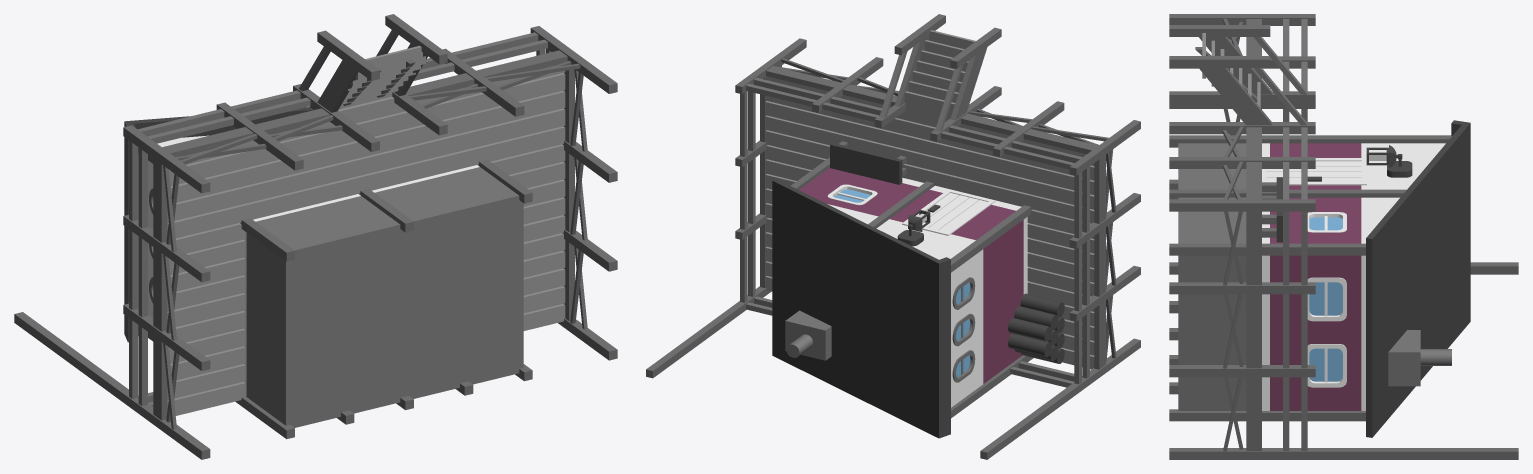
Rendered from Bungalow.fbx.
The picture shows the model from 3 angles, left to right: view 1: azimuth 30°, elevation 25°; view 2: azimuth 150°, elevation 25°; view 3: azimuth 270°, elevation 25°; orthographic projection. The views are drawn at different scales.
Visible parts, largest first — view 1: Bungalow; view 2: Bungalow, Bungalow Door; view 3: Bungalow, Bungalow Door.
Boxes of the visible parts, box(x1,y1,x2,y2) form: Bungalow: box(14, 14, 617, 459); Bungalow: box(646, 14, 1140, 459); Bungalow Door: box(922, 193, 987, 231); Bungalow: box(1169, 14, 1518, 459); Bungalow Door: box(1266, 161, 1361, 181).
Size of the model in its own units: 2450 by 2025 by 1911.
